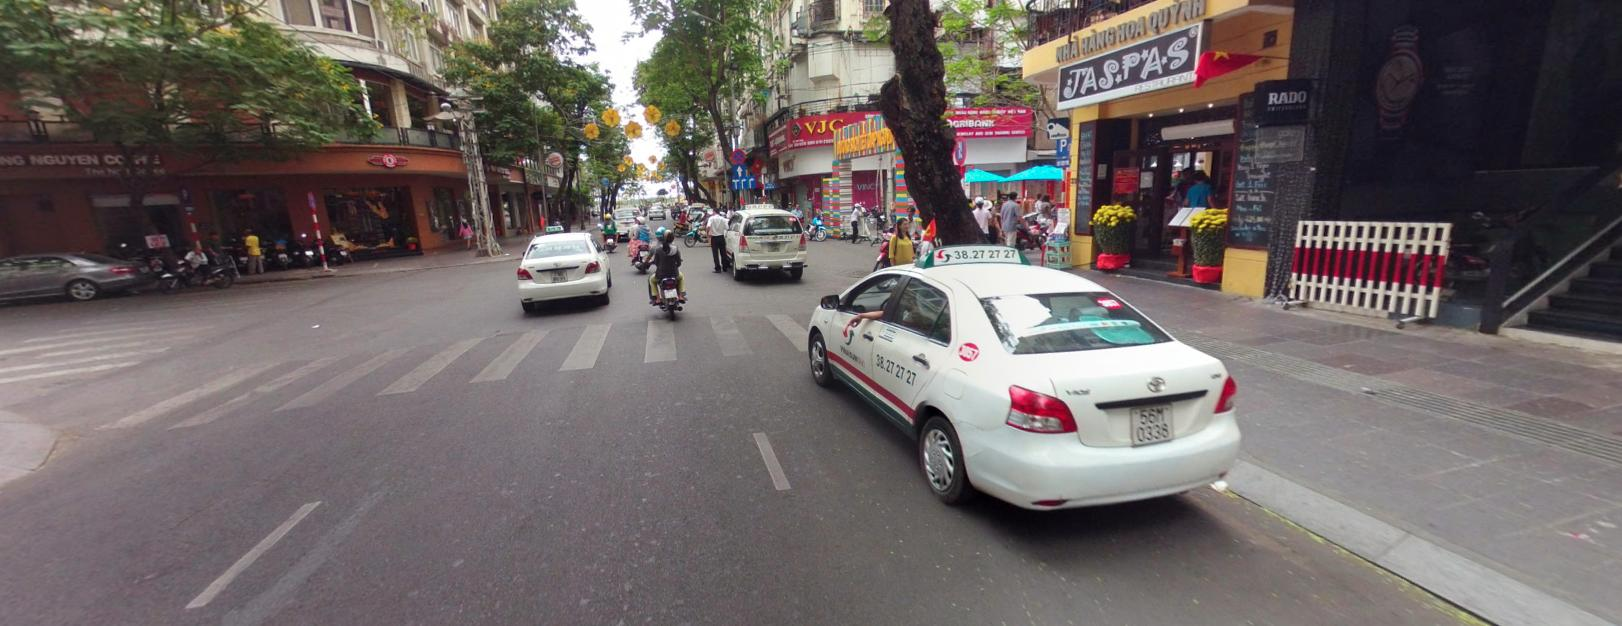Cam dung va do: (954, 135, 966, 163), (731, 147, 745, 161), (307, 189, 316, 208)
